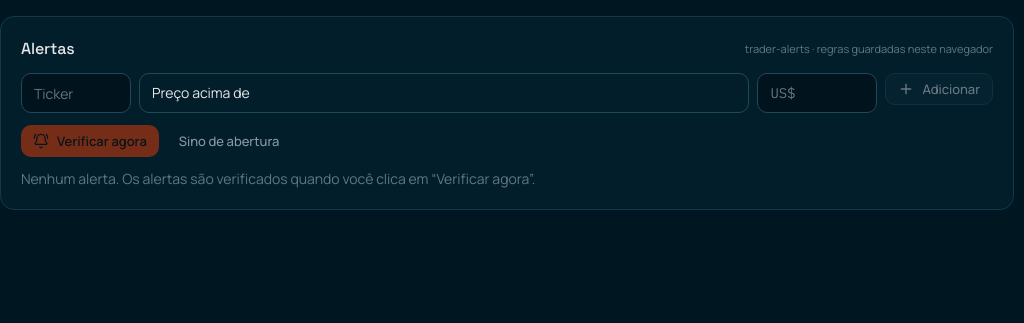
Test case: AlertsPanel › keeps rules in this browser and checks only when asked
Type "tsla" into the field named "Ticker do alerta" at (76, 93), box [21,73,131,113]
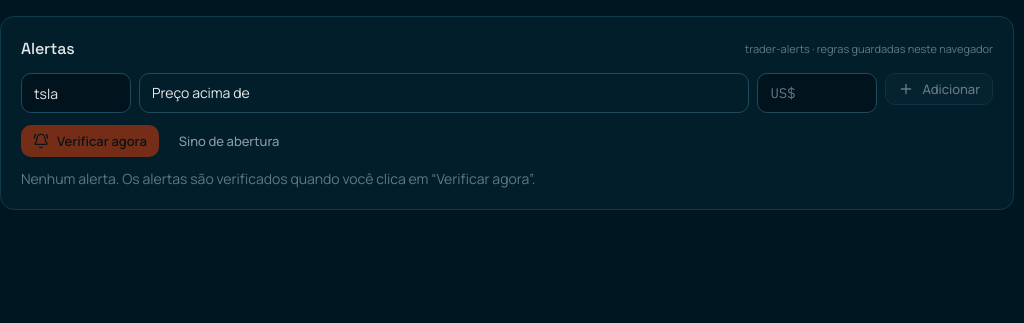
Type "366" into the number field named "Preço" at (817, 93), box [757,73,877,113]
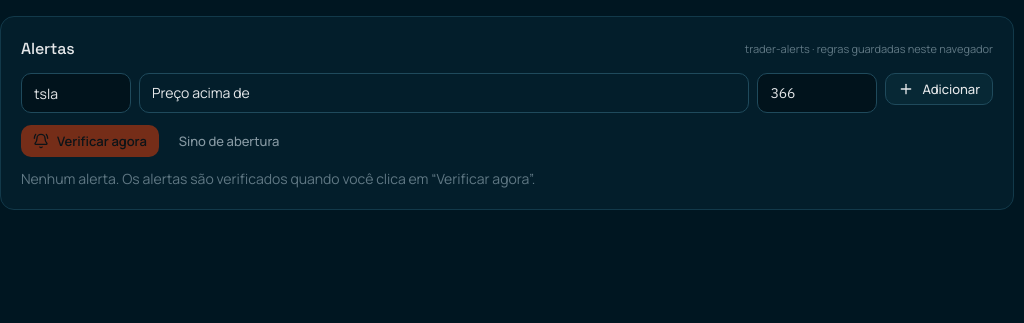
Click the button "Adicionar" at (939, 89), box [885,73,993,105]
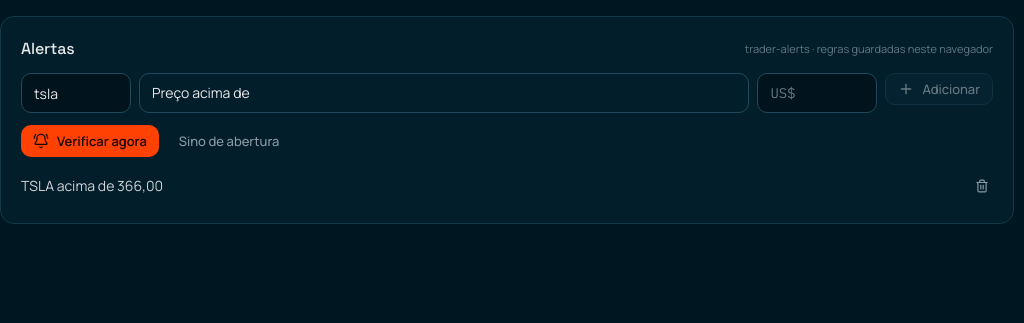
Click the button "Verificar agora" at (90, 141), box [21,125,159,157]
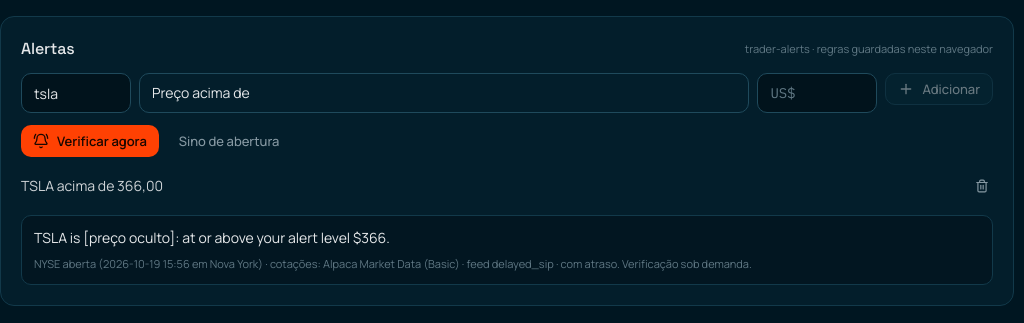
Expected: the list item "TSLA is [preço oculto]: at or above your alert level $366." is shown, [34,228,390,247]
